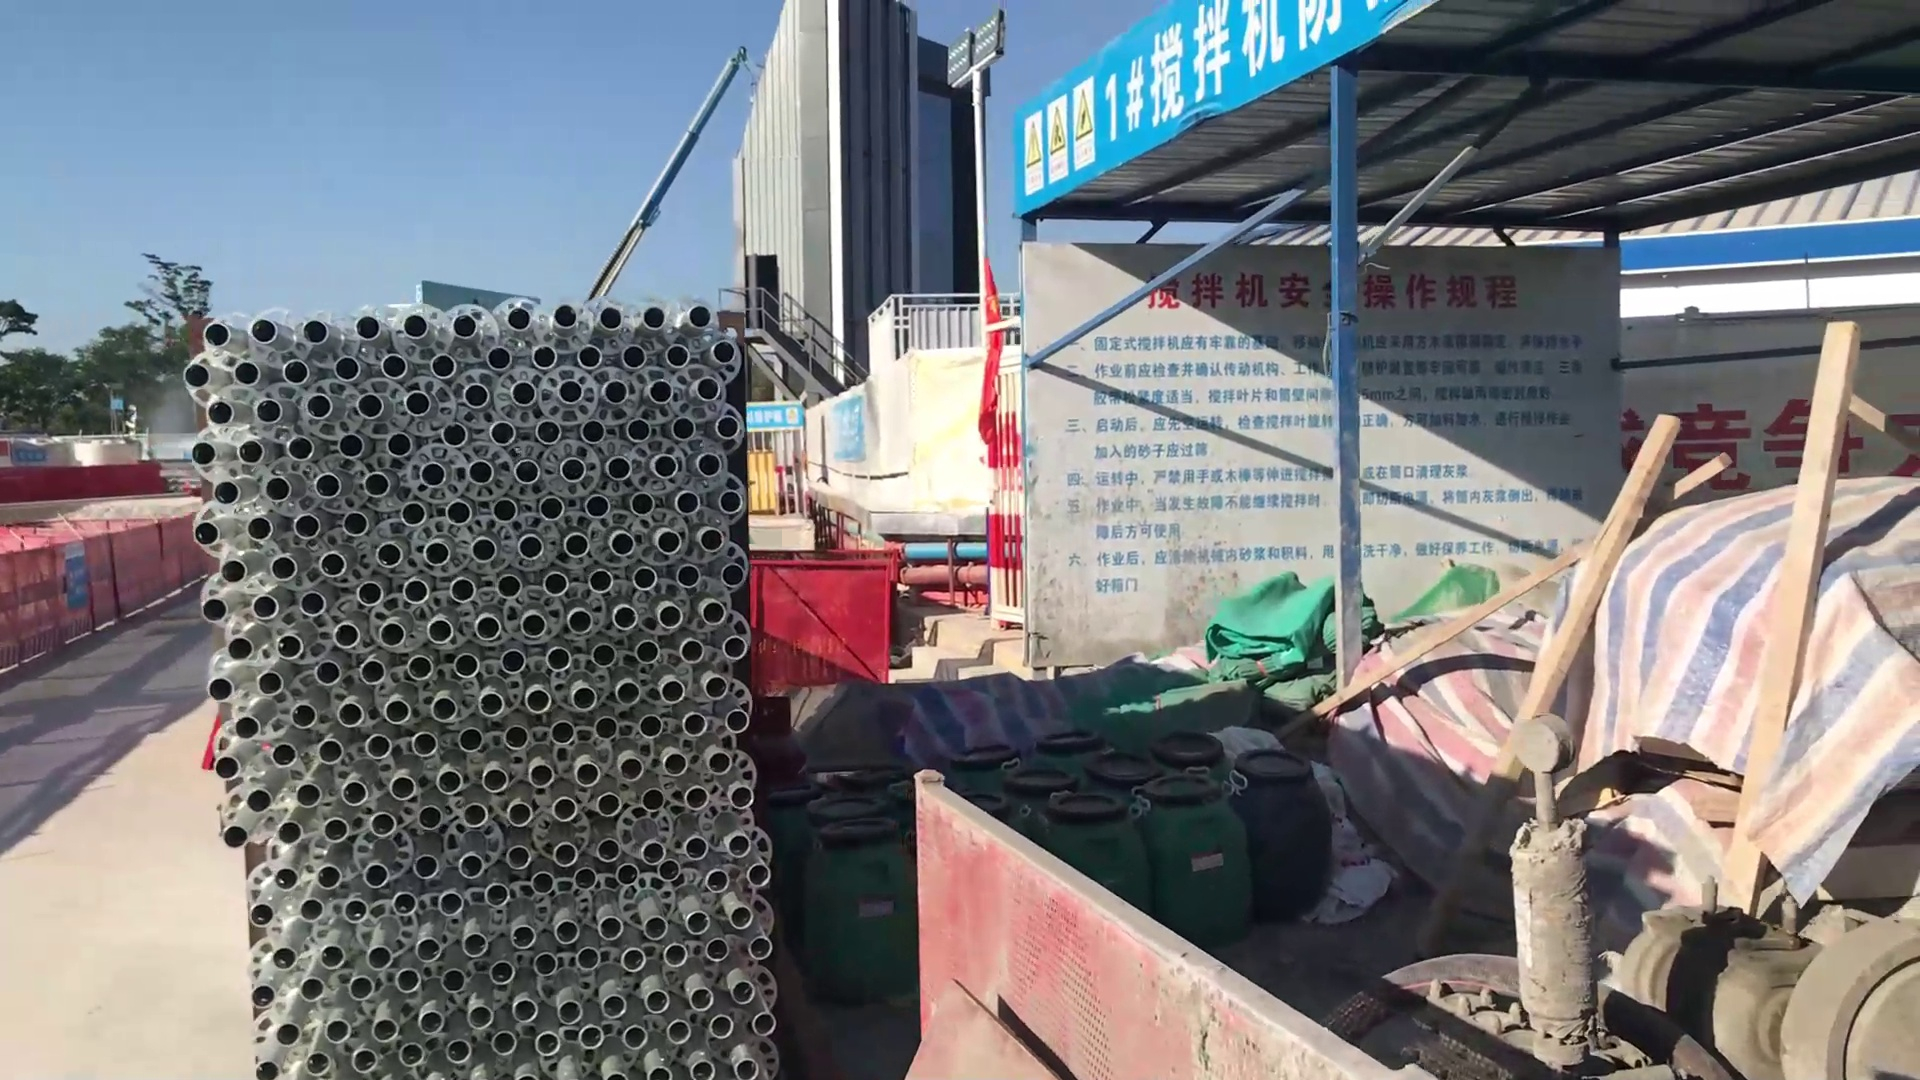fence: (913, 771, 1436, 1080), (1, 465, 206, 680), (752, 547, 899, 688)
scaffold: (189, 295, 785, 1080)
slogan: (1015, 69, 1105, 193)
